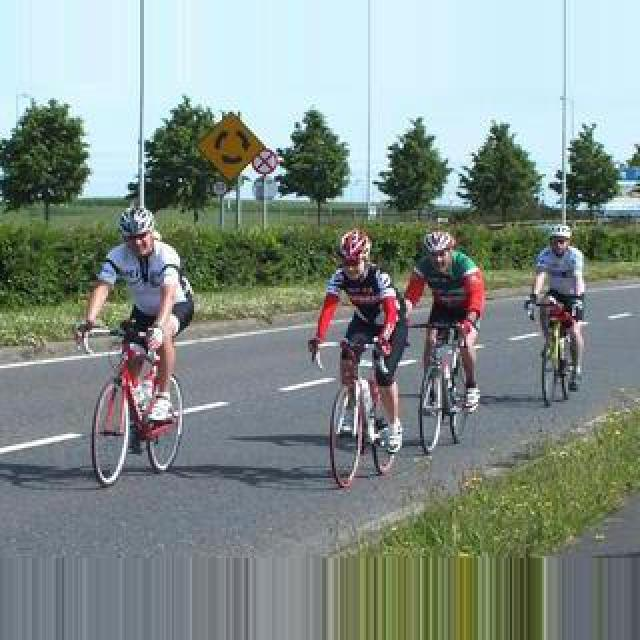MC-Bike: (74, 204, 194, 440), (308, 230, 406, 450), (404, 232, 486, 430), (528, 226, 588, 372)
Person: (88, 325, 182, 487), (322, 337, 400, 489), (415, 318, 479, 454), (526, 293, 586, 405)
